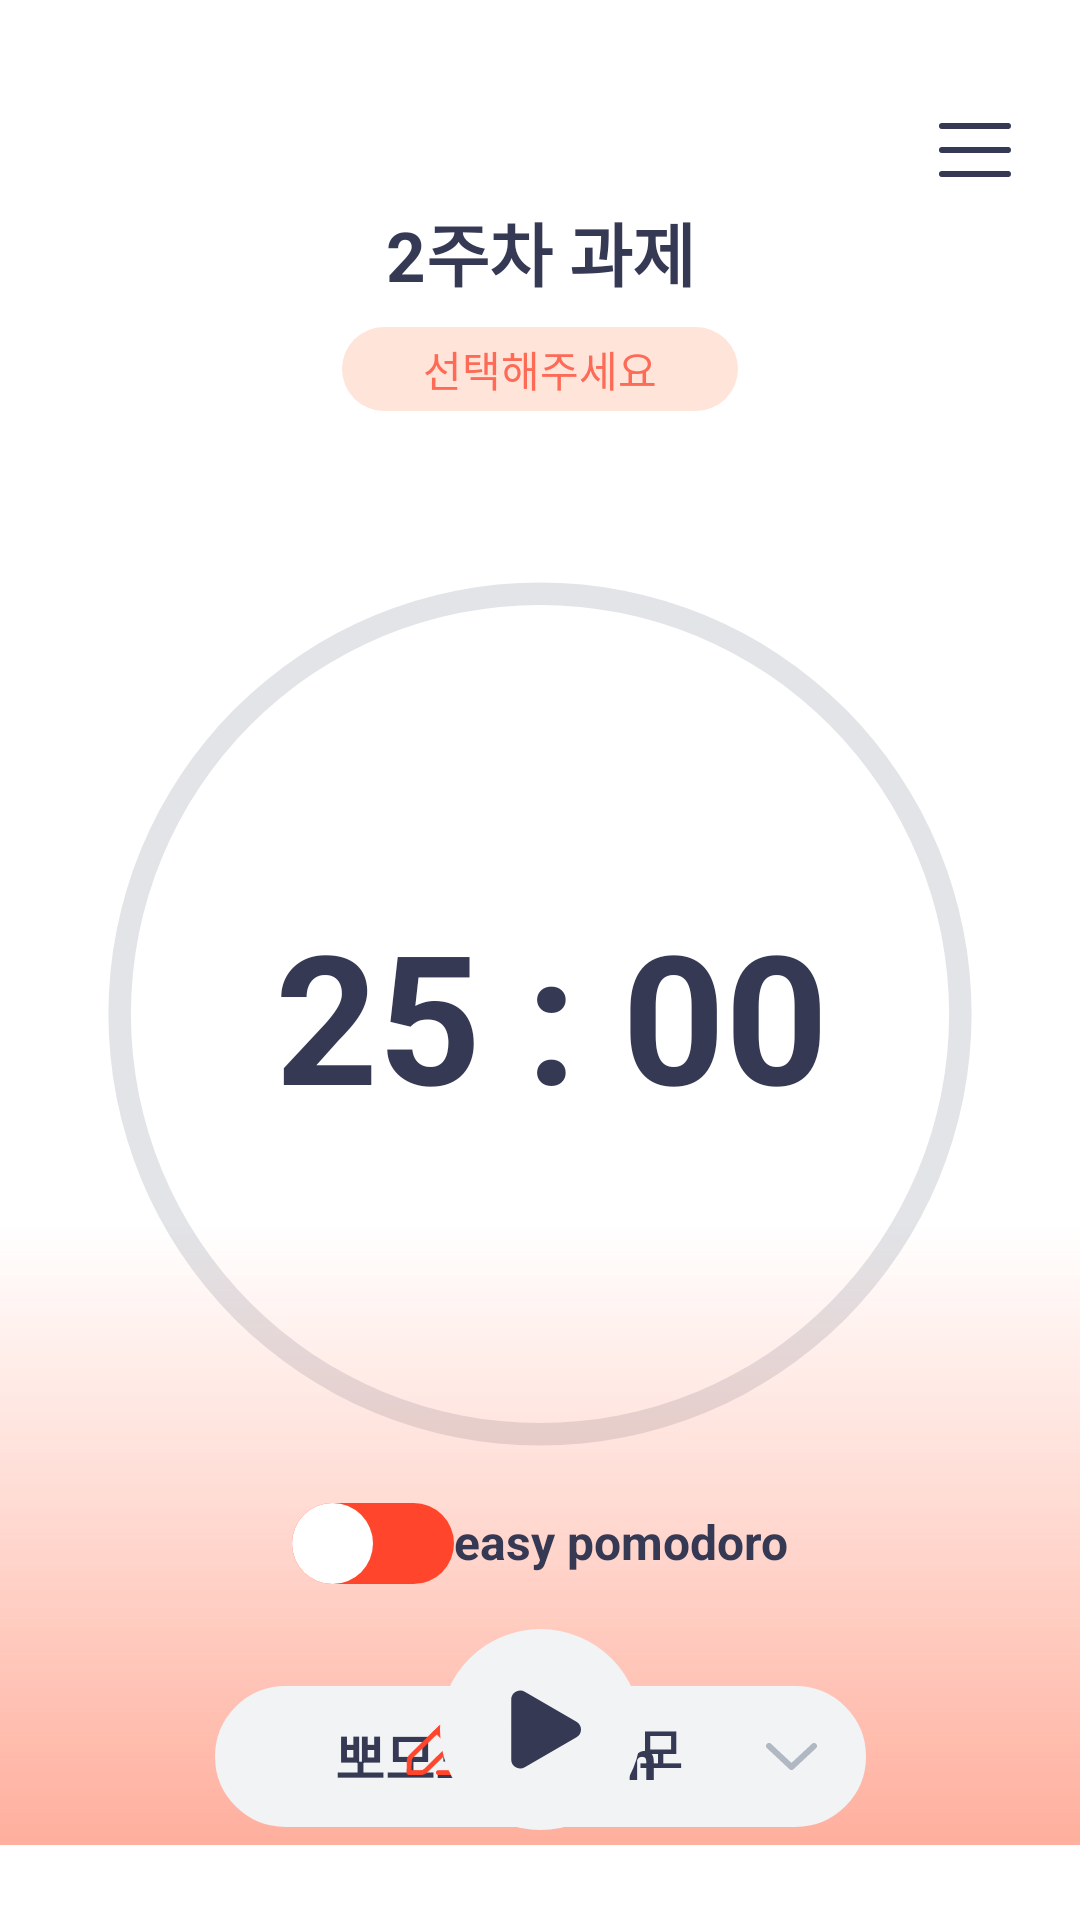

Point at icon controls on the screen. Image size 1080 × 1920, points as point (x, y).
down arrow: point (791, 1756)
menu: point (975, 150)
play: point (540, 1729)
